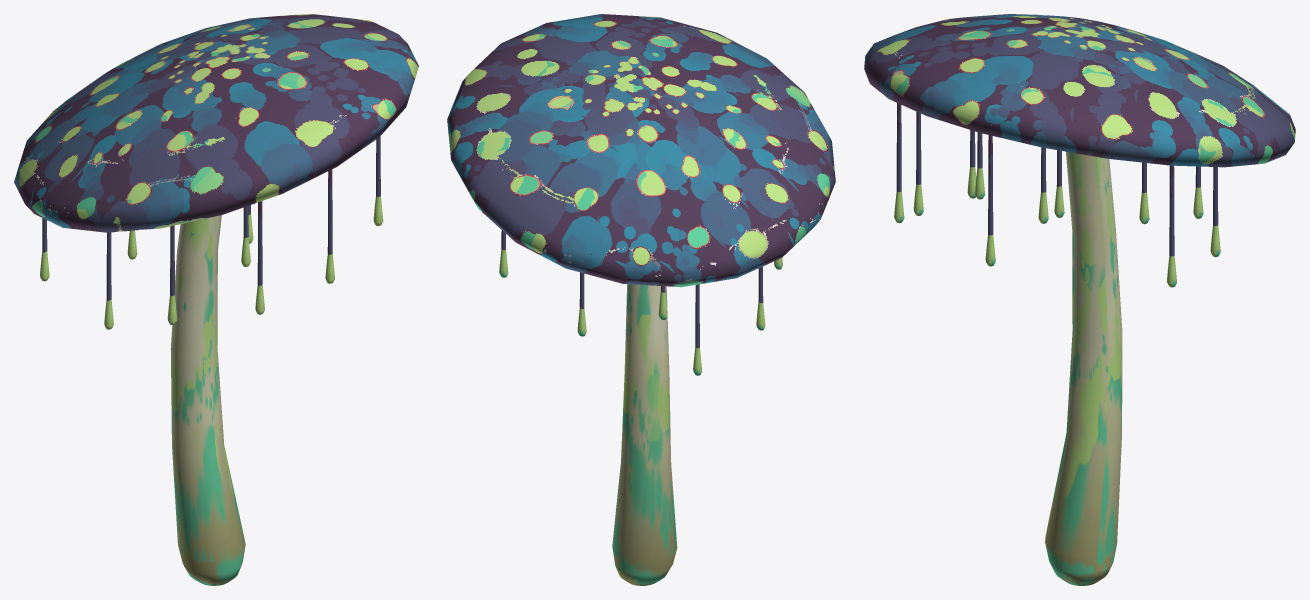
The model's file is MushroomDash.fbx.
3 renders of one model, left to right at view 1: azimuth 30°, elevation 25°; view 2: azimuth 150°, elevation 25°; view 3: azimuth 270°, elevation 25°, orthographic. The views are drawn at different scales.
Visible parts, largest first — view 1: mushroom 3; view 2: mushroom 3; view 3: mushroom 3.
Part boxes in pixels (box(x1,y1,x2,y2)): mushroom 3: box(14, 14, 418, 585); mushroom 3: box(447, 14, 835, 585); mushroom 3: box(864, 14, 1295, 585).
Bounding box in the file's own units: 534 × 773 × 537.
